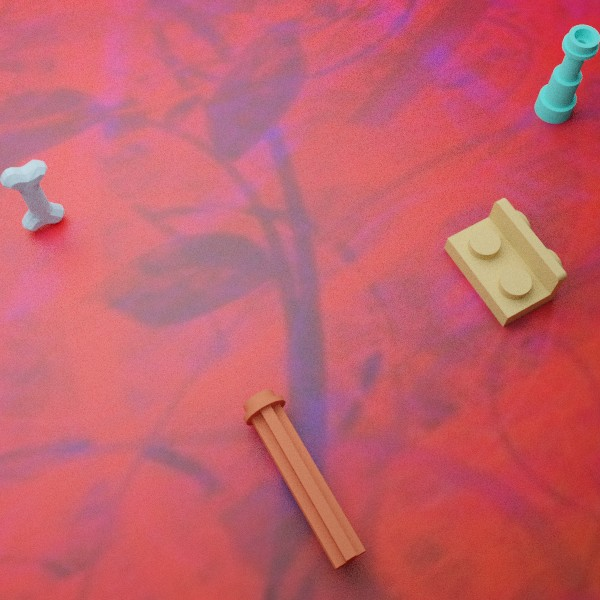lego: (243, 389, 366, 569), (444, 198, 566, 326), (534, 24, 600, 123), (0, 159, 65, 230)
